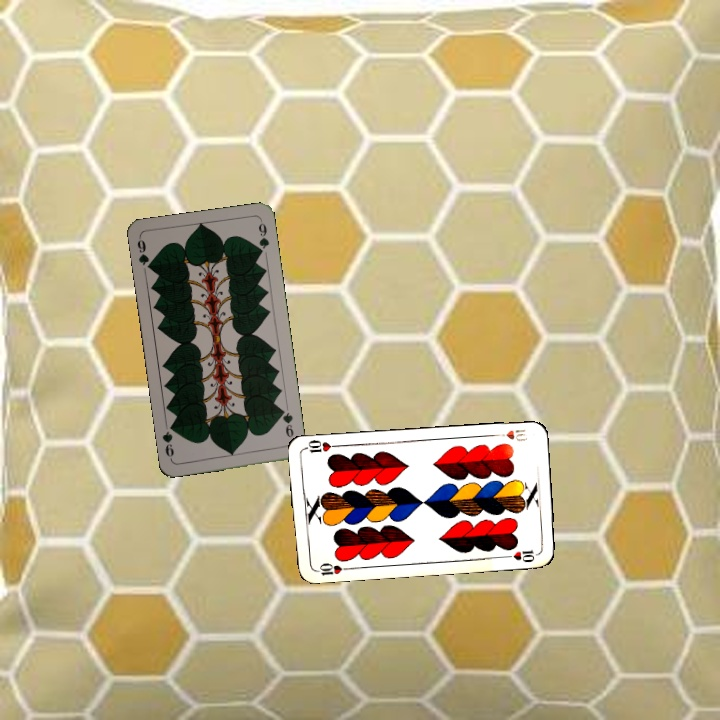G9: (133, 234, 155, 273), (277, 405, 296, 444)
H10: (311, 559, 351, 578), (491, 425, 530, 444)
